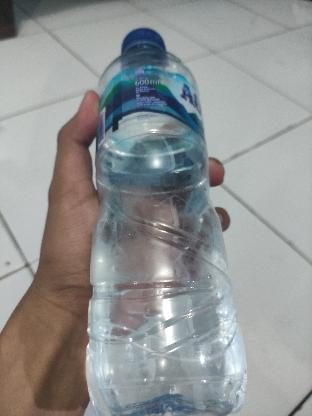Plastic Bottle: (78, 25, 250, 416)
